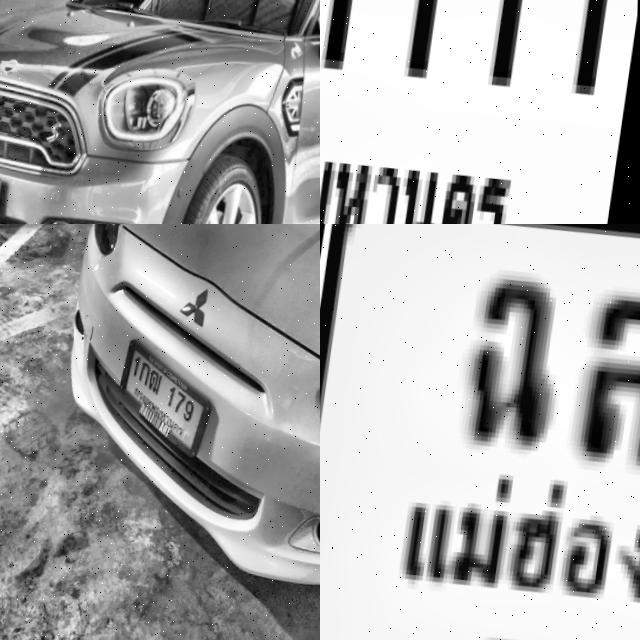license-plate: (320, 224, 640, 640), (320, 0, 640, 224), (114, 333, 215, 461)
